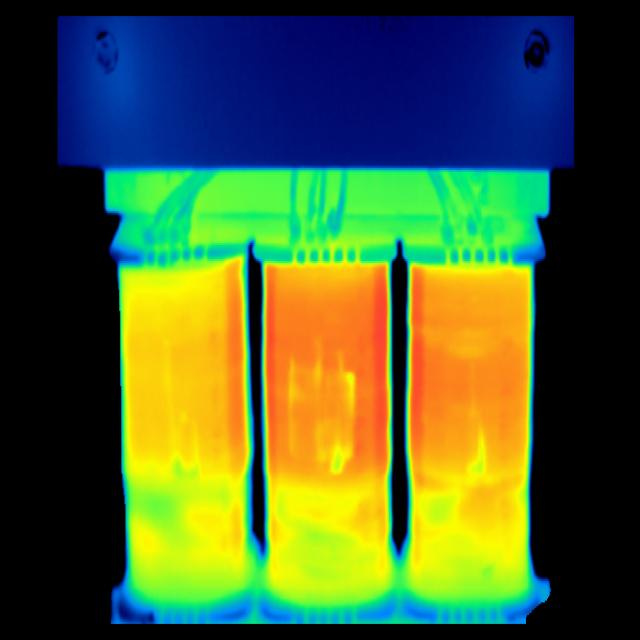Transformer Overload: (123, 251, 541, 602)
